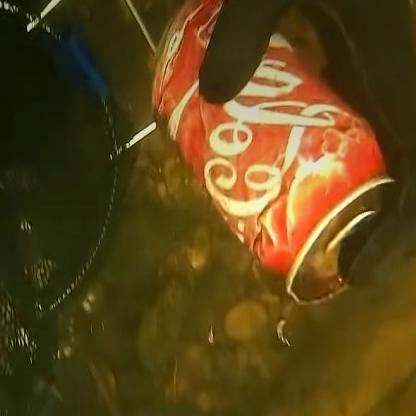can: (161, 40, 373, 290)
